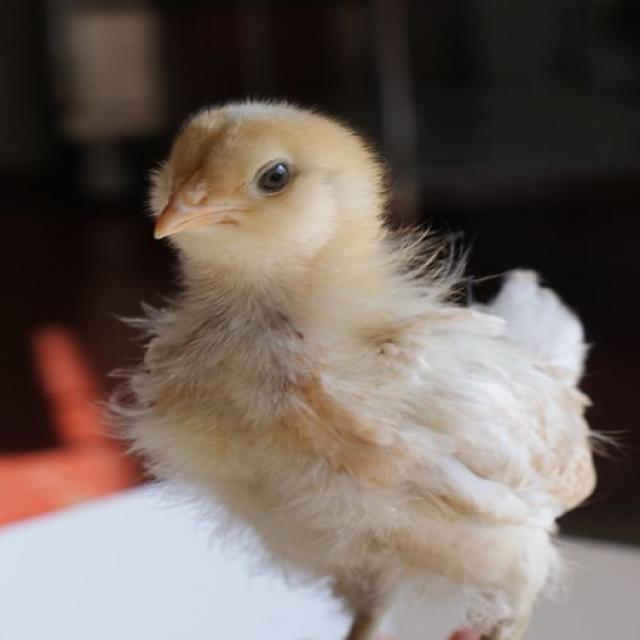poussin: (144, 94, 604, 640)
